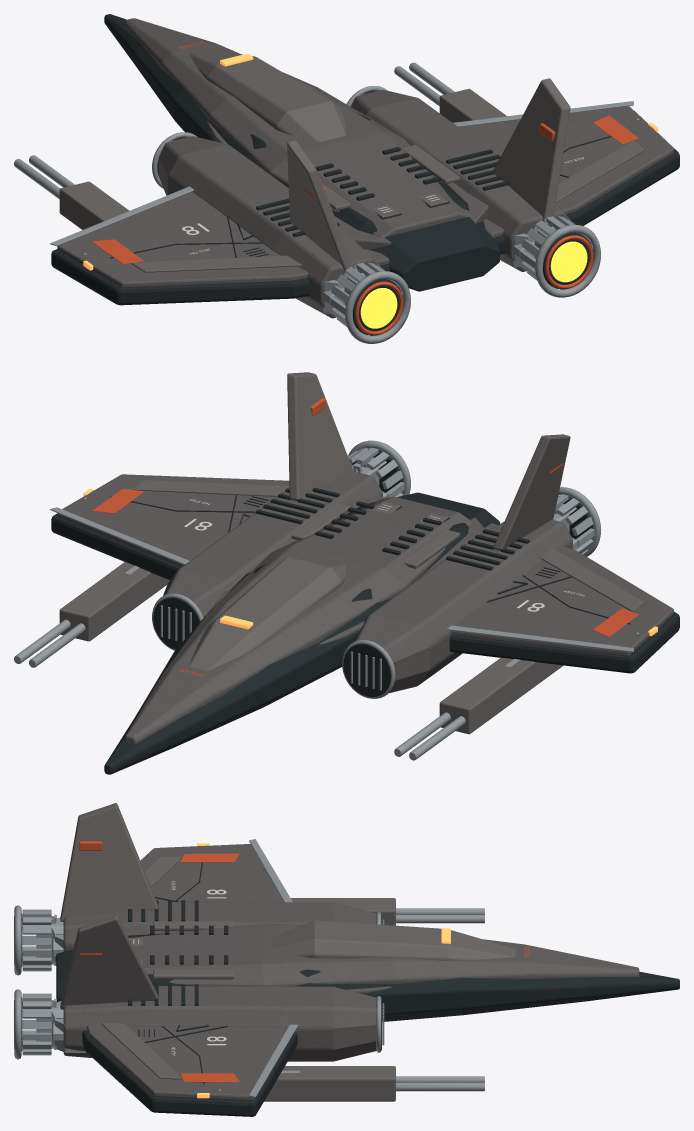
Rendered from elite.glb.
3 views of the same model, one above another, from view 1: azimuth 30°, elevation 25°; view 2: azimuth 150°, elevation 25°; view 3: azimuth 270°, elevation 25° (orthographic). The views are drawn at different scales.
Visible parts, largest first — view 1: 主装甲_陶瓷金属涂层, 次级装甲_深色钢, 碳化结构与接缝, 拉丝钛合金, 识别色, 热喷口; view 2: 主装甲_陶瓷金属涂层, 次级装甲_深色钢, 碳化结构与接缝, 拉丝钛合金, 识别色; view 3: 主装甲_陶瓷金属涂层, 次级装甲_深色钢, 碳化结构与接缝, 拉丝钛合金, 识别色.
Part boxes in pixels (left/top/right/bottom): 主装甲_陶瓷金属涂层: left=57, top=18, right=673, bottom=318; 次级装甲_深色钢: left=59, top=48, right=644, bottom=272; 碳化结构与接缝: left=51, top=14, right=679, bottom=335; 拉丝钛合金: left=14, top=62, right=639, bottom=343; 识别色: left=92, top=41, right=638, bottom=335; 热喷口: left=360, top=241, right=587, bottom=328; 主装甲_陶瓷金属涂层: left=57, top=470, right=673, bottom=744; 次级装甲_深色钢: left=59, top=372, right=644, bottom=734; 碳化结构与接缝: left=51, top=449, right=679, bottom=774; 拉丝钛合金: left=14, top=440, right=639, bottom=760; 识别色: left=92, top=398, right=638, bottom=676; 主装甲_陶瓷金属涂层: left=63, top=844, right=639, bottom=1100; 次级装甲_深色钢: left=60, top=803, right=515, bottom=1101; 碳化结构与接缝: left=21, top=862, right=679, bottom=1116; 拉丝钛合金: left=14, top=839, right=484, bottom=1097; 识别色: left=14, top=841, right=529, bottom=1082.
Size of the model in its own units: 8.59 by 2.39 by 9.39.
8 materials, 1 textured.
